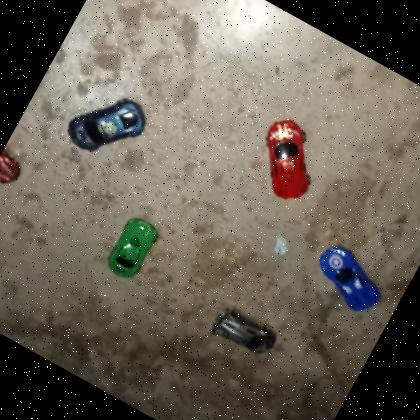Car: (241, 111, 335, 210), (60, 80, 154, 173), (304, 238, 395, 321), (100, 212, 164, 286)
